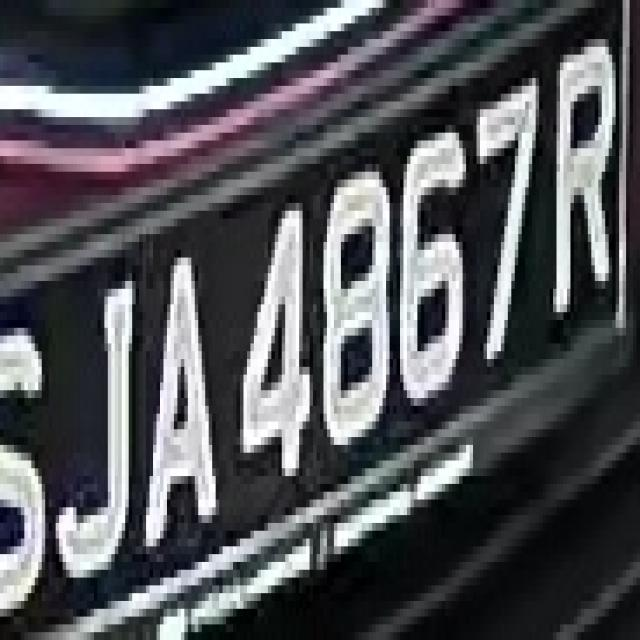4: (233, 164, 334, 515)
6: (389, 117, 476, 406)
7: (470, 62, 546, 382)
8: (317, 132, 400, 492)
A: (136, 218, 233, 578)
J: (42, 257, 139, 608)
R: (546, 16, 626, 312)
S: (7, 265, 49, 609)
